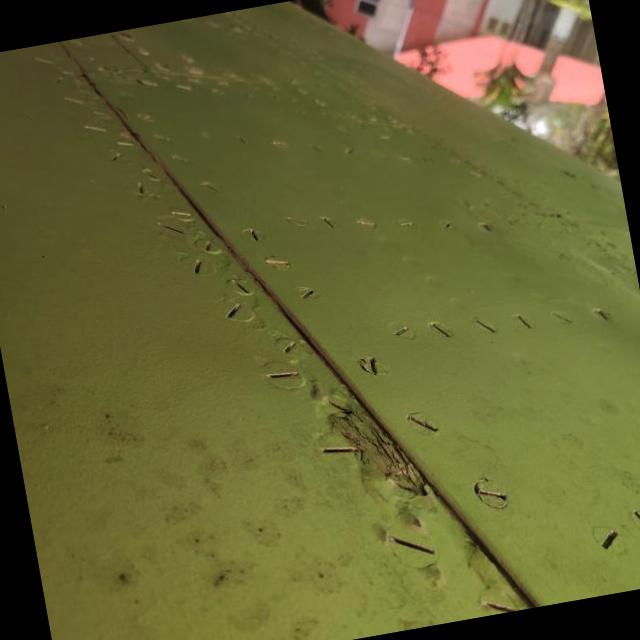paint-off: (296, 356, 466, 532)
